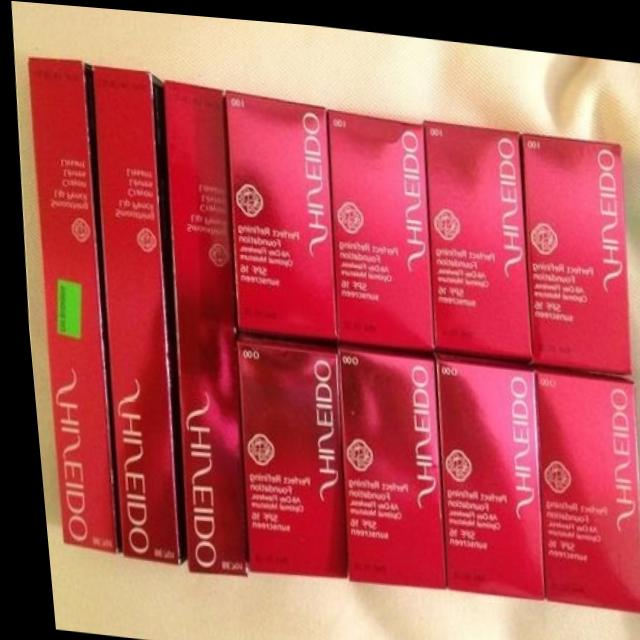box: (87, 63, 178, 565), (27, 59, 109, 555), (162, 78, 238, 577), (225, 86, 331, 340), (517, 121, 626, 366), (329, 340, 438, 584), (428, 348, 534, 594), (421, 114, 527, 359), (232, 332, 338, 576), (527, 361, 632, 601), (326, 103, 428, 348)
